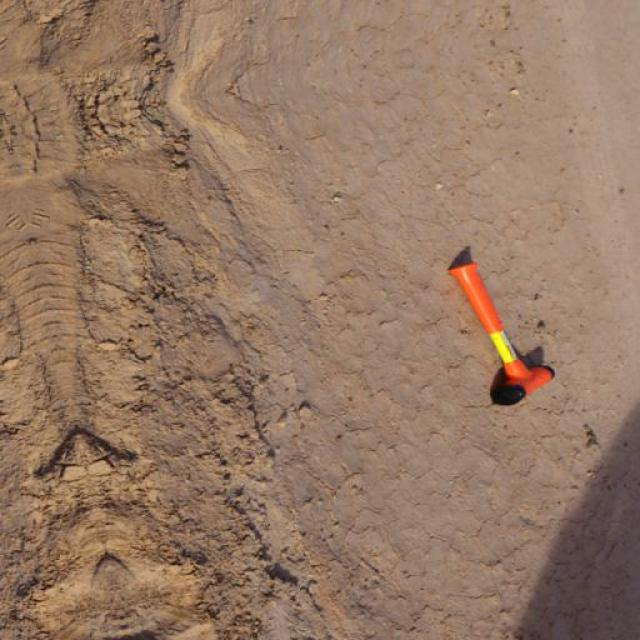mallet: (445, 244, 555, 405)
